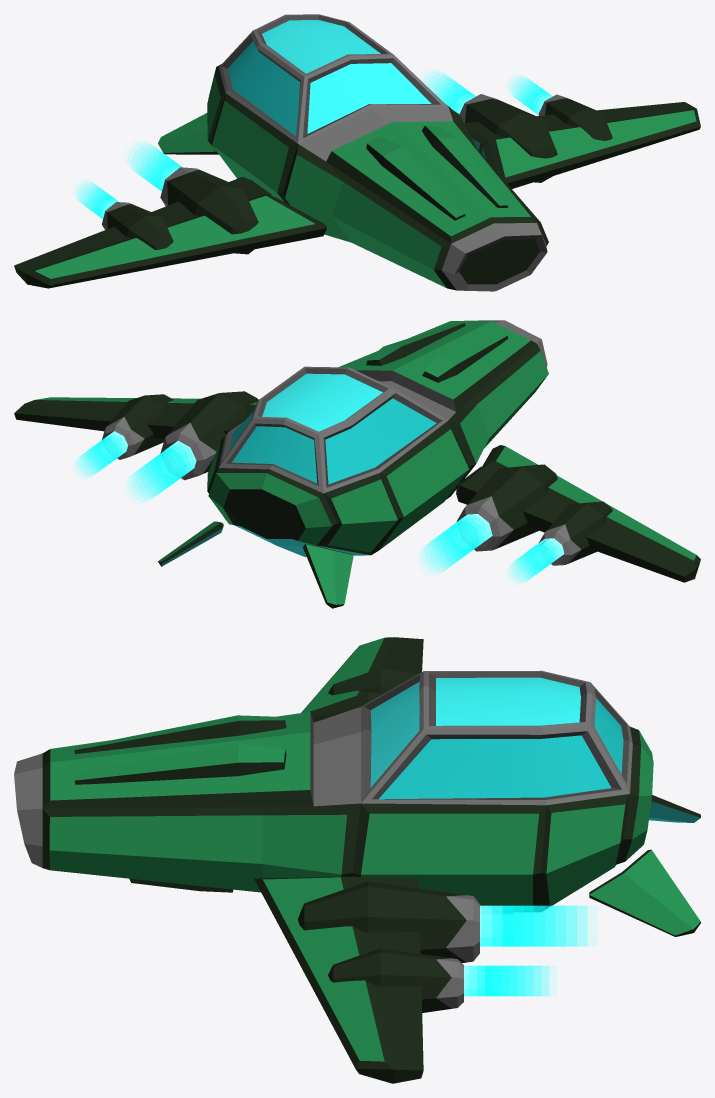
3 renders of one model, top to bottom at view 1: azimuth 30°, elevation 25°; view 2: azimuth 150°, elevation 25°; view 3: azimuth 270°, elevation 25°, orthographic. The views are drawn at different scales.
Parts seen in each view (by area): view 1: Cube; view 2: Cube; view 3: Cube.
Part boxes in pixels (x1,y1,x2,y2): Cube: (14, 14, 700, 291); Cube: (14, 320, 700, 608); Cube: (14, 637, 700, 1083).
Size of the model in its own units: 898 by 200 by 603.
Materials: 1 (1 with a texture image).
